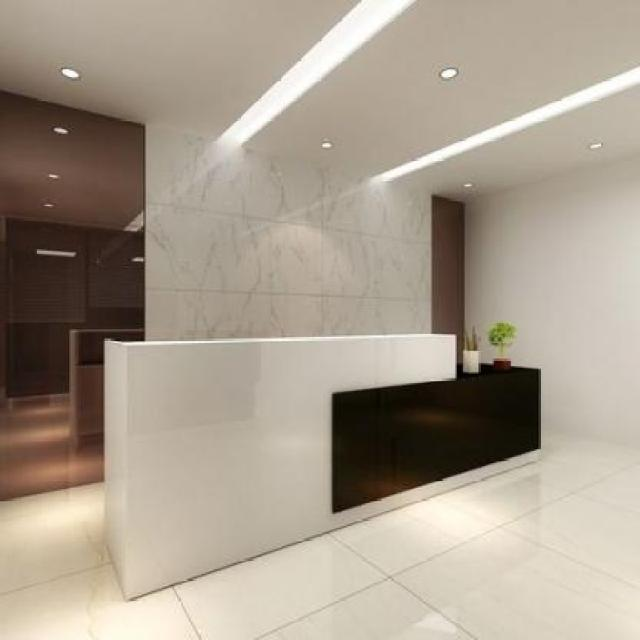frontdesk: (84, 314, 548, 610)
